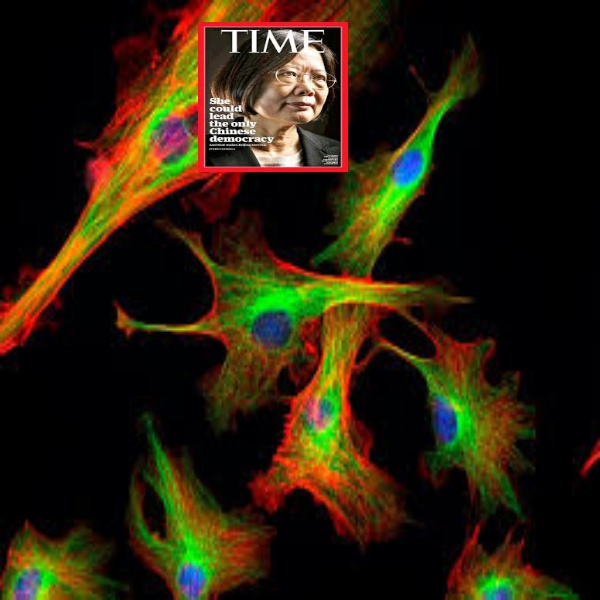time_cover: (187, 9, 356, 172)
